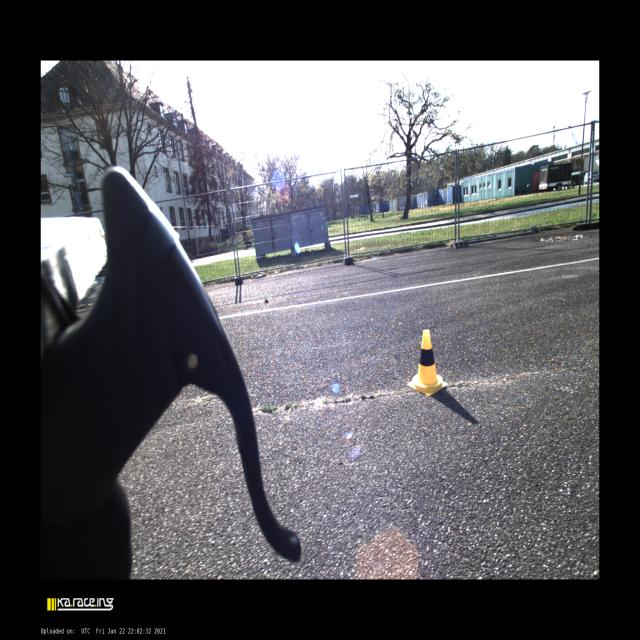yellow_cone: (407, 330, 448, 396)
